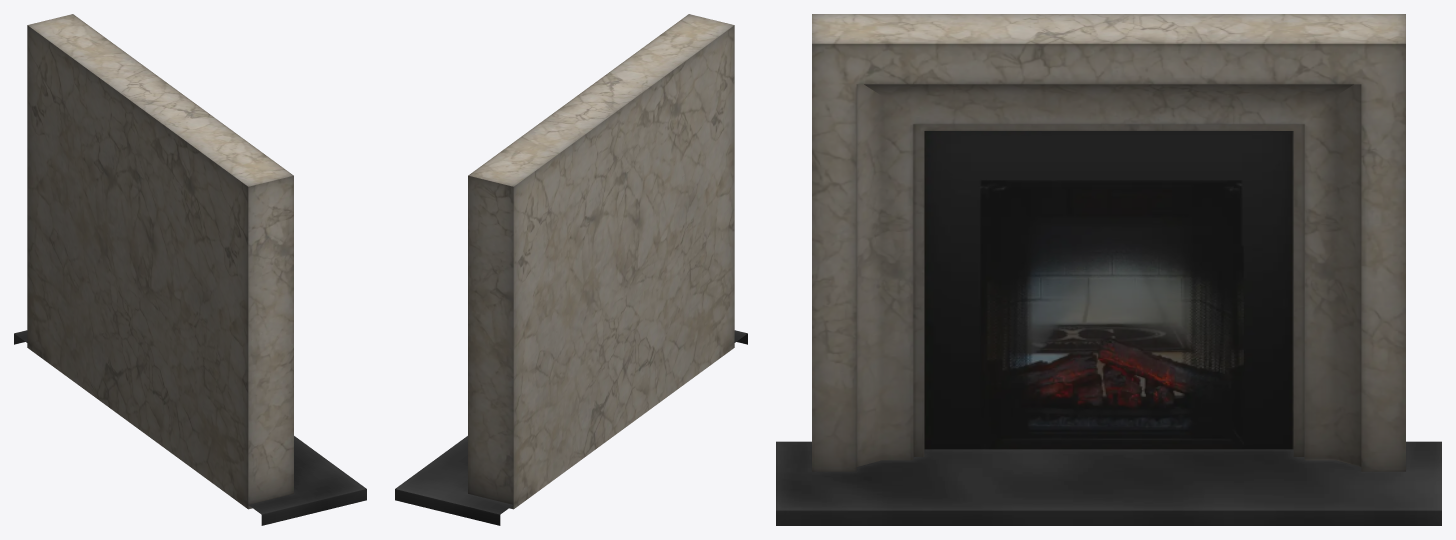
Rendered from fireplace01.glb.
The picture shows the model from 3 angles, left to right: view 1: azimuth 30°, elevation 25°; view 2: azimuth 150°, elevation 25°; view 3: azimuth 270°, elevation 25°; orthographic projection. The views are drawn at different scales.
Parts seen in each view (by area): view 1: fireplace01; view 2: fireplace01; view 3: fireplace01.
Boxes of the visible parts, <box> form: fireplace01: <box>14,14,366,525</box>; fireplace01: <box>395,14,747,525</box>; fireplace01: <box>776,14,1441,525</box>.
Bounding box in the file's own units: 0.3627 × 1.08 × 1.48.
Materials: 1 (1 with a texture image).
